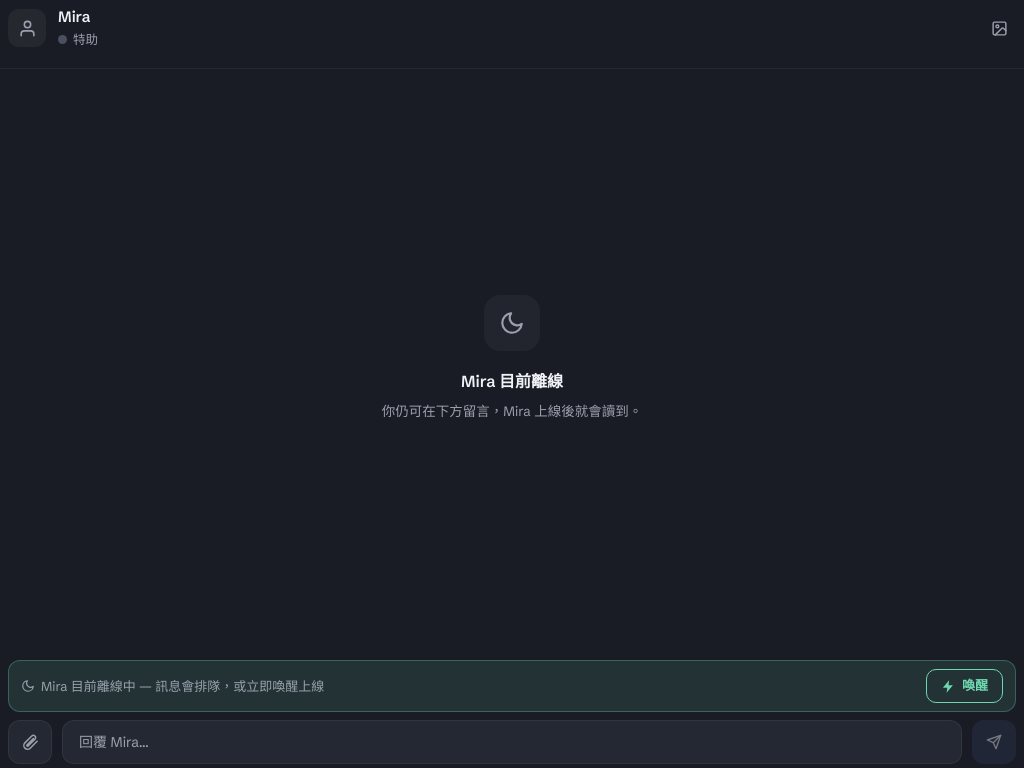
ChatArea · in-chat wake that was never dispatched (T-7fa1) › keeps 喚醒中… when activation_pending is false (a real wake)
The width and height of the screenshot is (1024, 768).
Click the button with class "chat__wake-btn" at (964, 686), box [926,669,1003,703]
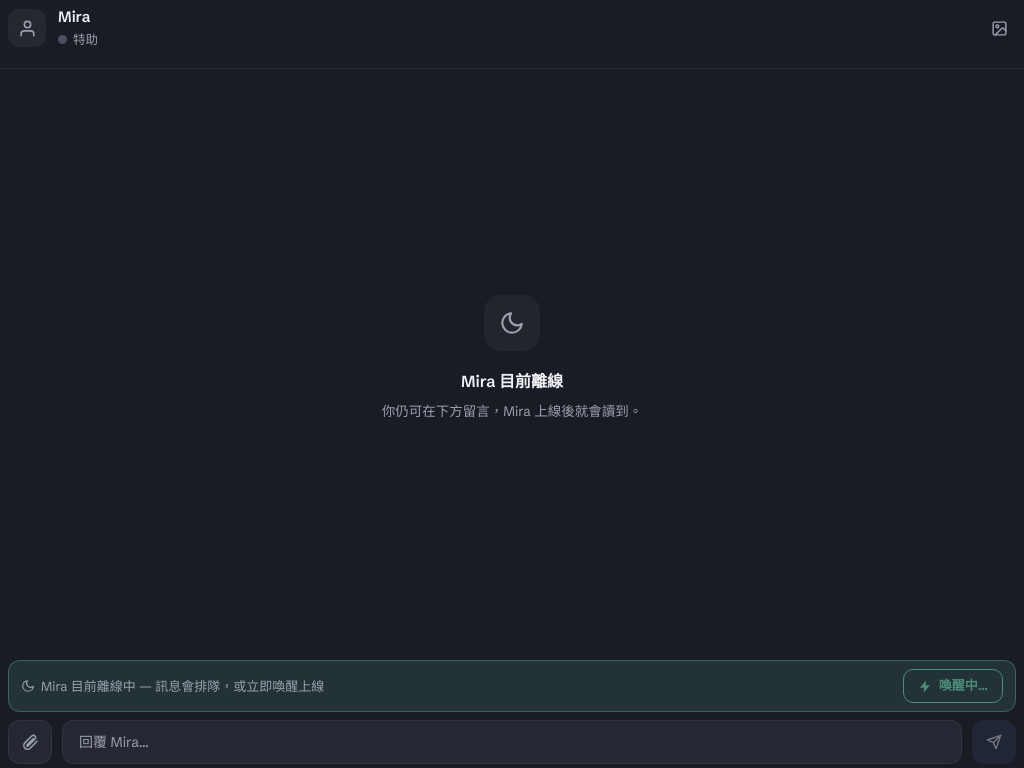
Check: the button with class "chat__wake-btn" is disabled, box [903,669,1003,703]
